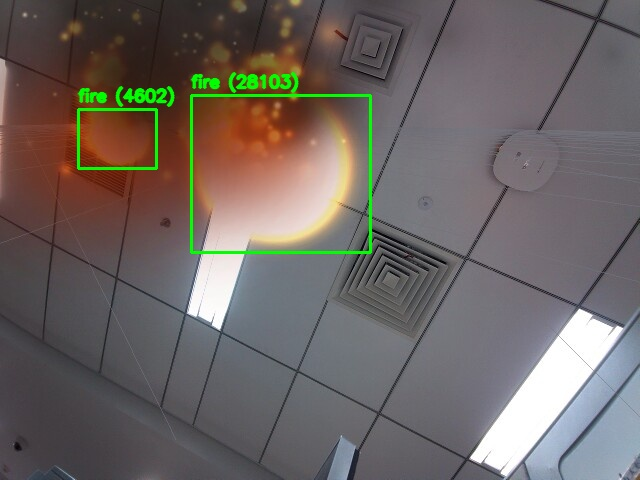fire: (191, 95, 370, 252), (78, 109, 156, 168)
